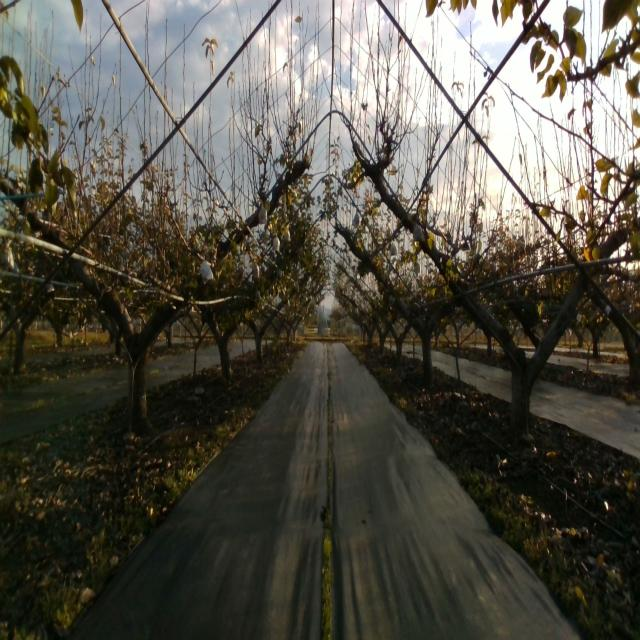pearbags: (200, 259, 214, 284), (412, 222, 426, 242), (258, 201, 268, 224)
